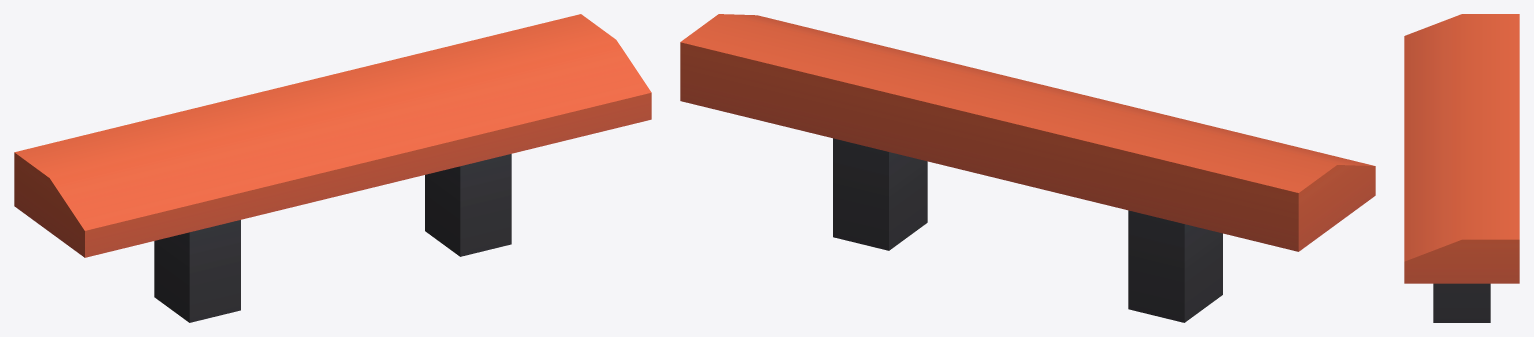
The model's file is kenney-car-debris-spoiler-a.glb.
3 views of the same model, side by side, from view 1: azimuth 30°, elevation 25°; view 2: azimuth 150°, elevation 25°; view 3: azimuth 270°, elevation 25° (orthographic). The views are drawn at different scales.
Visible parts, largest first — view 1: debris-spoiler-a; view 2: debris-spoiler-a; view 3: debris-spoiler-a.
Boxes of the visible parts, x1,y1,x2,y2 form: debris-spoiler-a: (14,14,651,322); debris-spoiler-a: (680,14,1375,322); debris-spoiler-a: (1404,14,1519,322).
Size of the model in its own units: 1.1 by 0.3 by 0.2374.
1 material, 1 textured.
